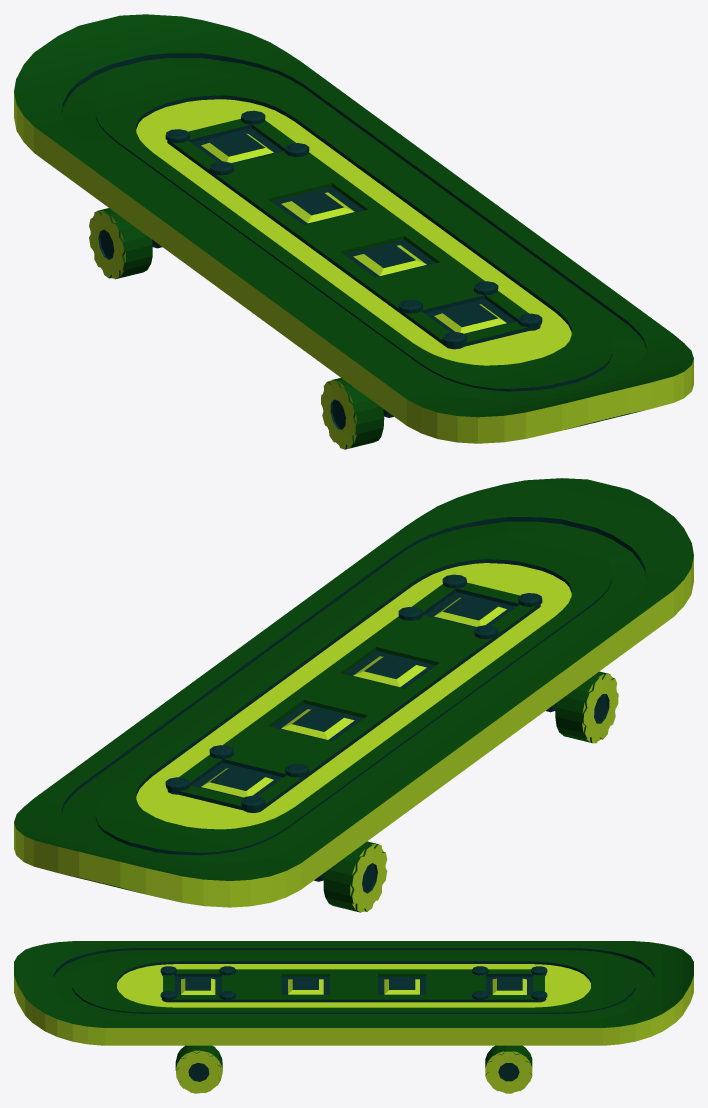
The model's file is Skateboard.fbx.
3 views of the same model, one above another, from view 1: azimuth 30°, elevation 25°; view 2: azimuth 150°, elevation 25°; view 3: azimuth 270°, elevation 25° (orthographic). The views are drawn at different scales.
Parts seen in each view (by area): view 1: Skateboard; view 2: Skateboard; view 3: Skateboard.
Part boxes in pixels (x1,y1,x2,y2): Skateboard: [14, 14, 693, 449]; Skateboard: [14, 478, 693, 912]; Skateboard: [14, 941, 693, 1093].
Bounding box in the file's own units: 173 × 76.24 × 570.
